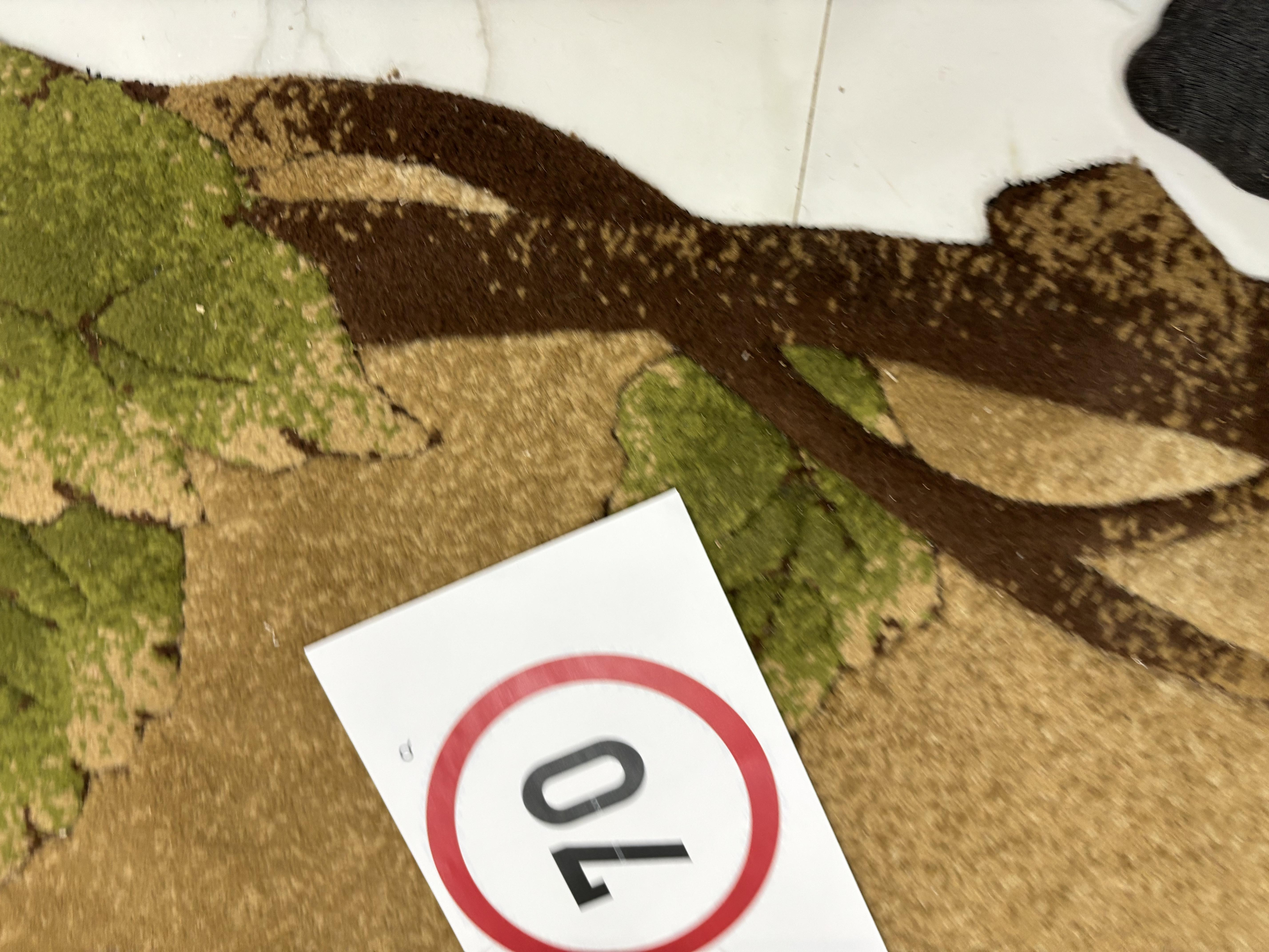70-Speed: (420, 654, 787, 952)
